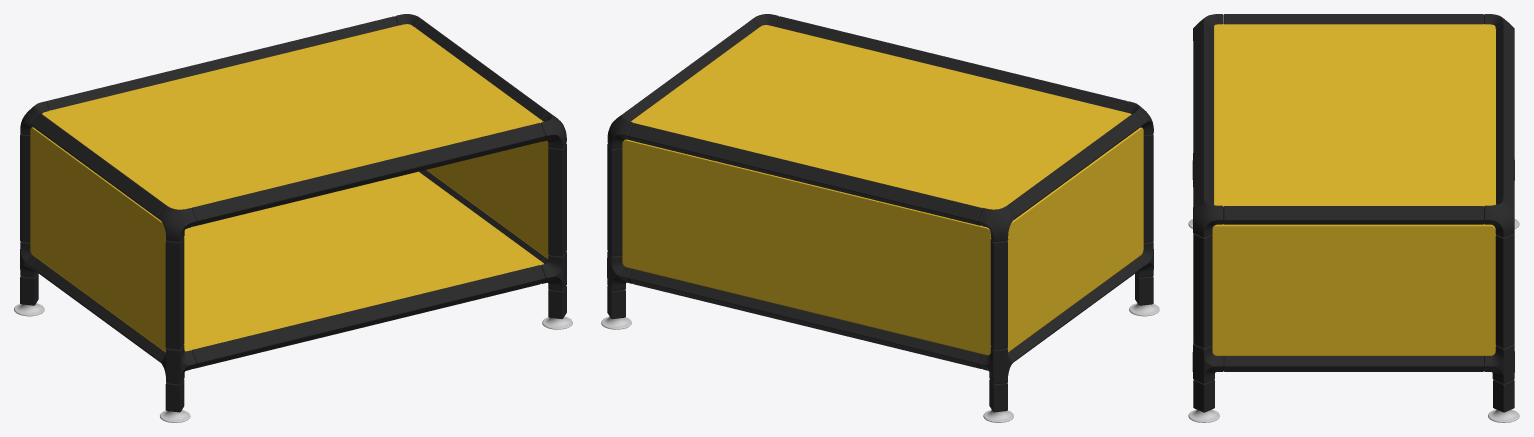
The picture shows the model from 3 angles, left to right: view 1: azimuth 30°, elevation 25°; view 2: azimuth 150°, elevation 25°; view 3: azimuth 270°, elevation 25°; orthographic projection. The views are drawn at different scales.
Visible parts, largest first — view 1: 523x329x154; view 2: 523x329x154; view 3: 523x329x154.
Part boxes in pixels (bbox=[...]): 523x329x154: bbox=[14, 14, 572, 422]; 523x329x154: bbox=[601, 14, 1159, 422]; 523x329x154: bbox=[1188, 14, 1519, 422].
Bounding box in the file's own units: 0.6129 × 0.2932 × 0.4183.
